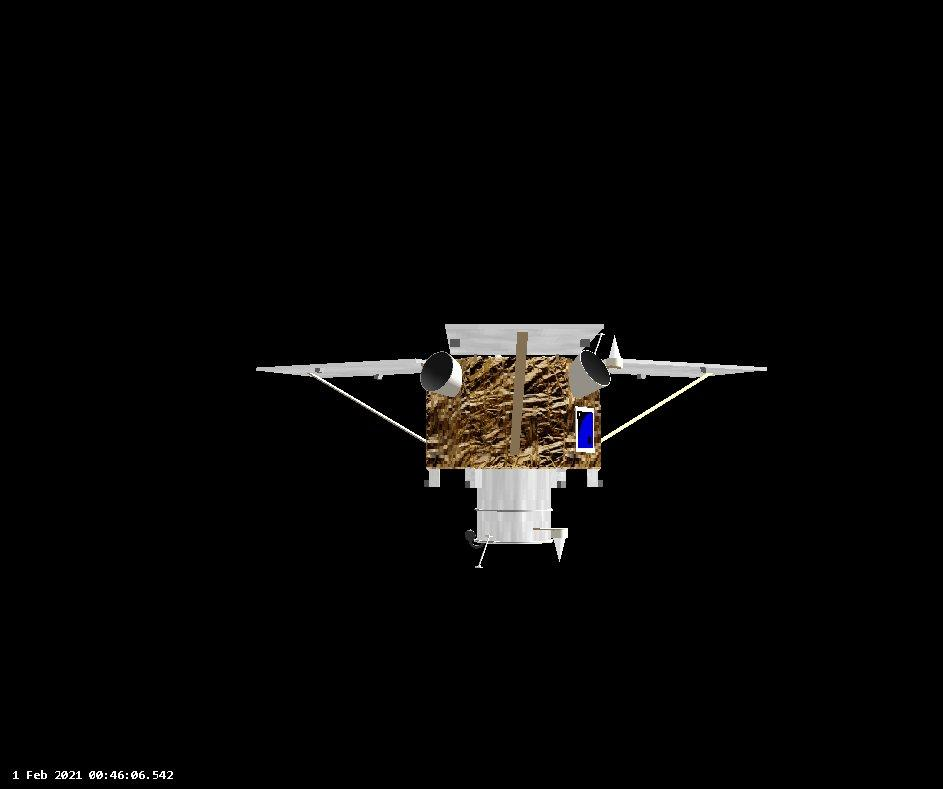antenna: (546, 519, 571, 564), (470, 530, 496, 573)
body: (419, 350, 605, 474)
solar: (439, 320, 607, 359), (250, 355, 434, 380), (597, 354, 772, 379)
thruster: (566, 347, 612, 398), (419, 351, 465, 398)
